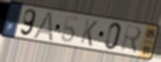0: (104, 22, 122, 51)
5: (60, 15, 80, 44)
9: (19, 8, 37, 37)
A: (30, 10, 54, 43)
K: (79, 18, 100, 48)
R: (120, 23, 144, 56)
